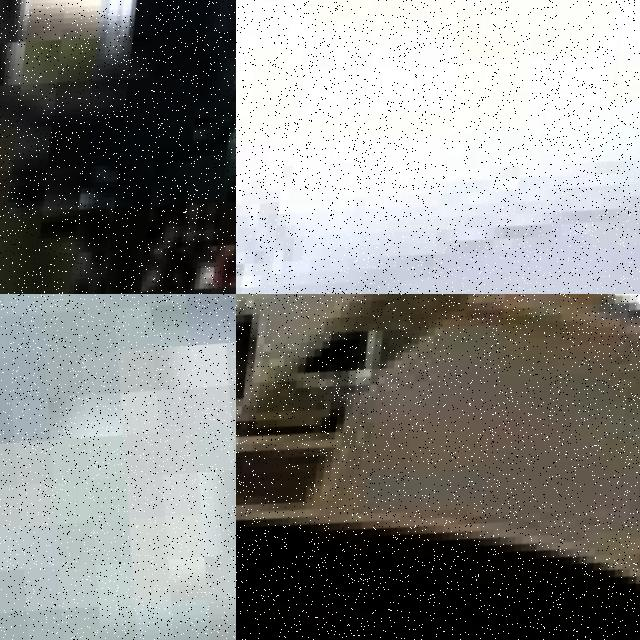drone: (236, 294, 640, 640), (236, 0, 640, 294), (0, 0, 236, 294)
